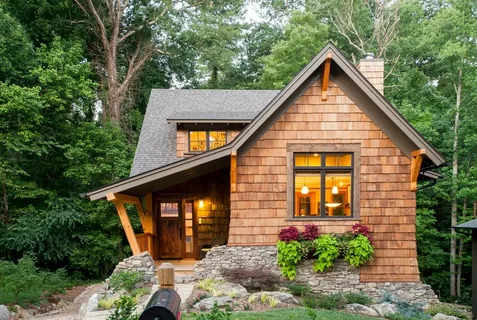private_hause: (136, 53, 421, 283)
